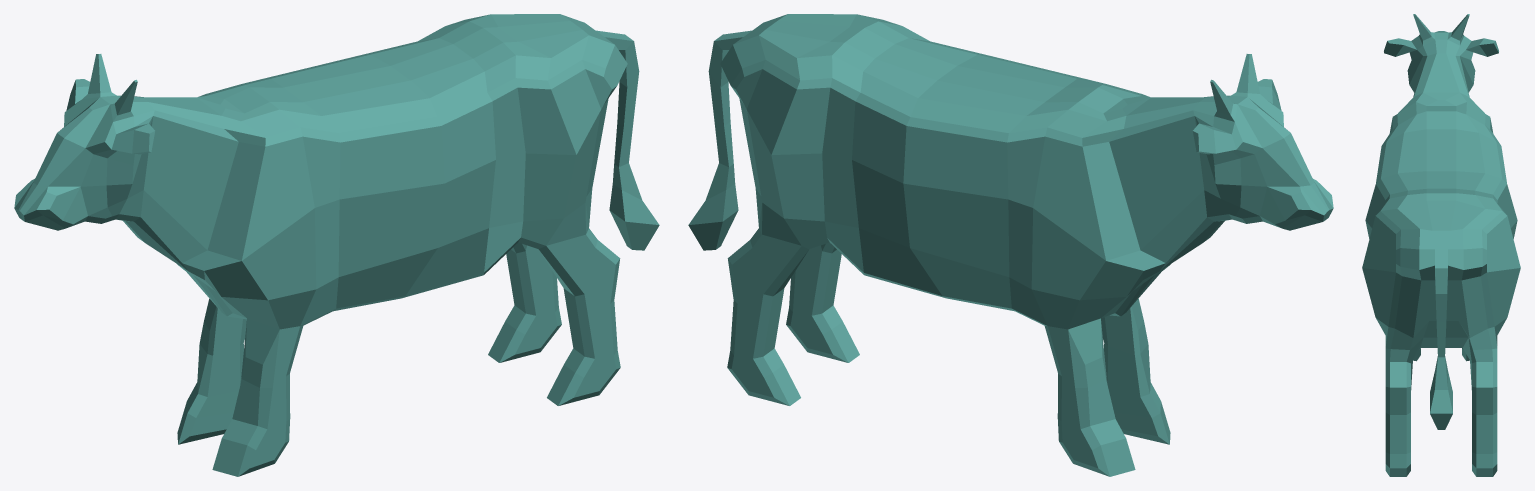
The model's file is Animal_Cow.fbx.
The picture shows the model from 3 angles, left to right: view 1: azimuth 30°, elevation 25°; view 2: azimuth 150°, elevation 25°; view 3: azimuth 270°, elevation 25°; orthographic projection. The views are drawn at different scales.
Parts seen in each view (by area): view 1: Cow; view 2: Cow; view 3: Cow.
Part boxes in pixels (left/top/right/bottom): Cow: left=14, top=14, right=659, bottom=476; Cow: left=688, top=14, right=1333, bottom=476; Cow: left=1362, top=14, right=1520, bottom=476.
Size of the model in its own units: 454 by 283 by 134.
